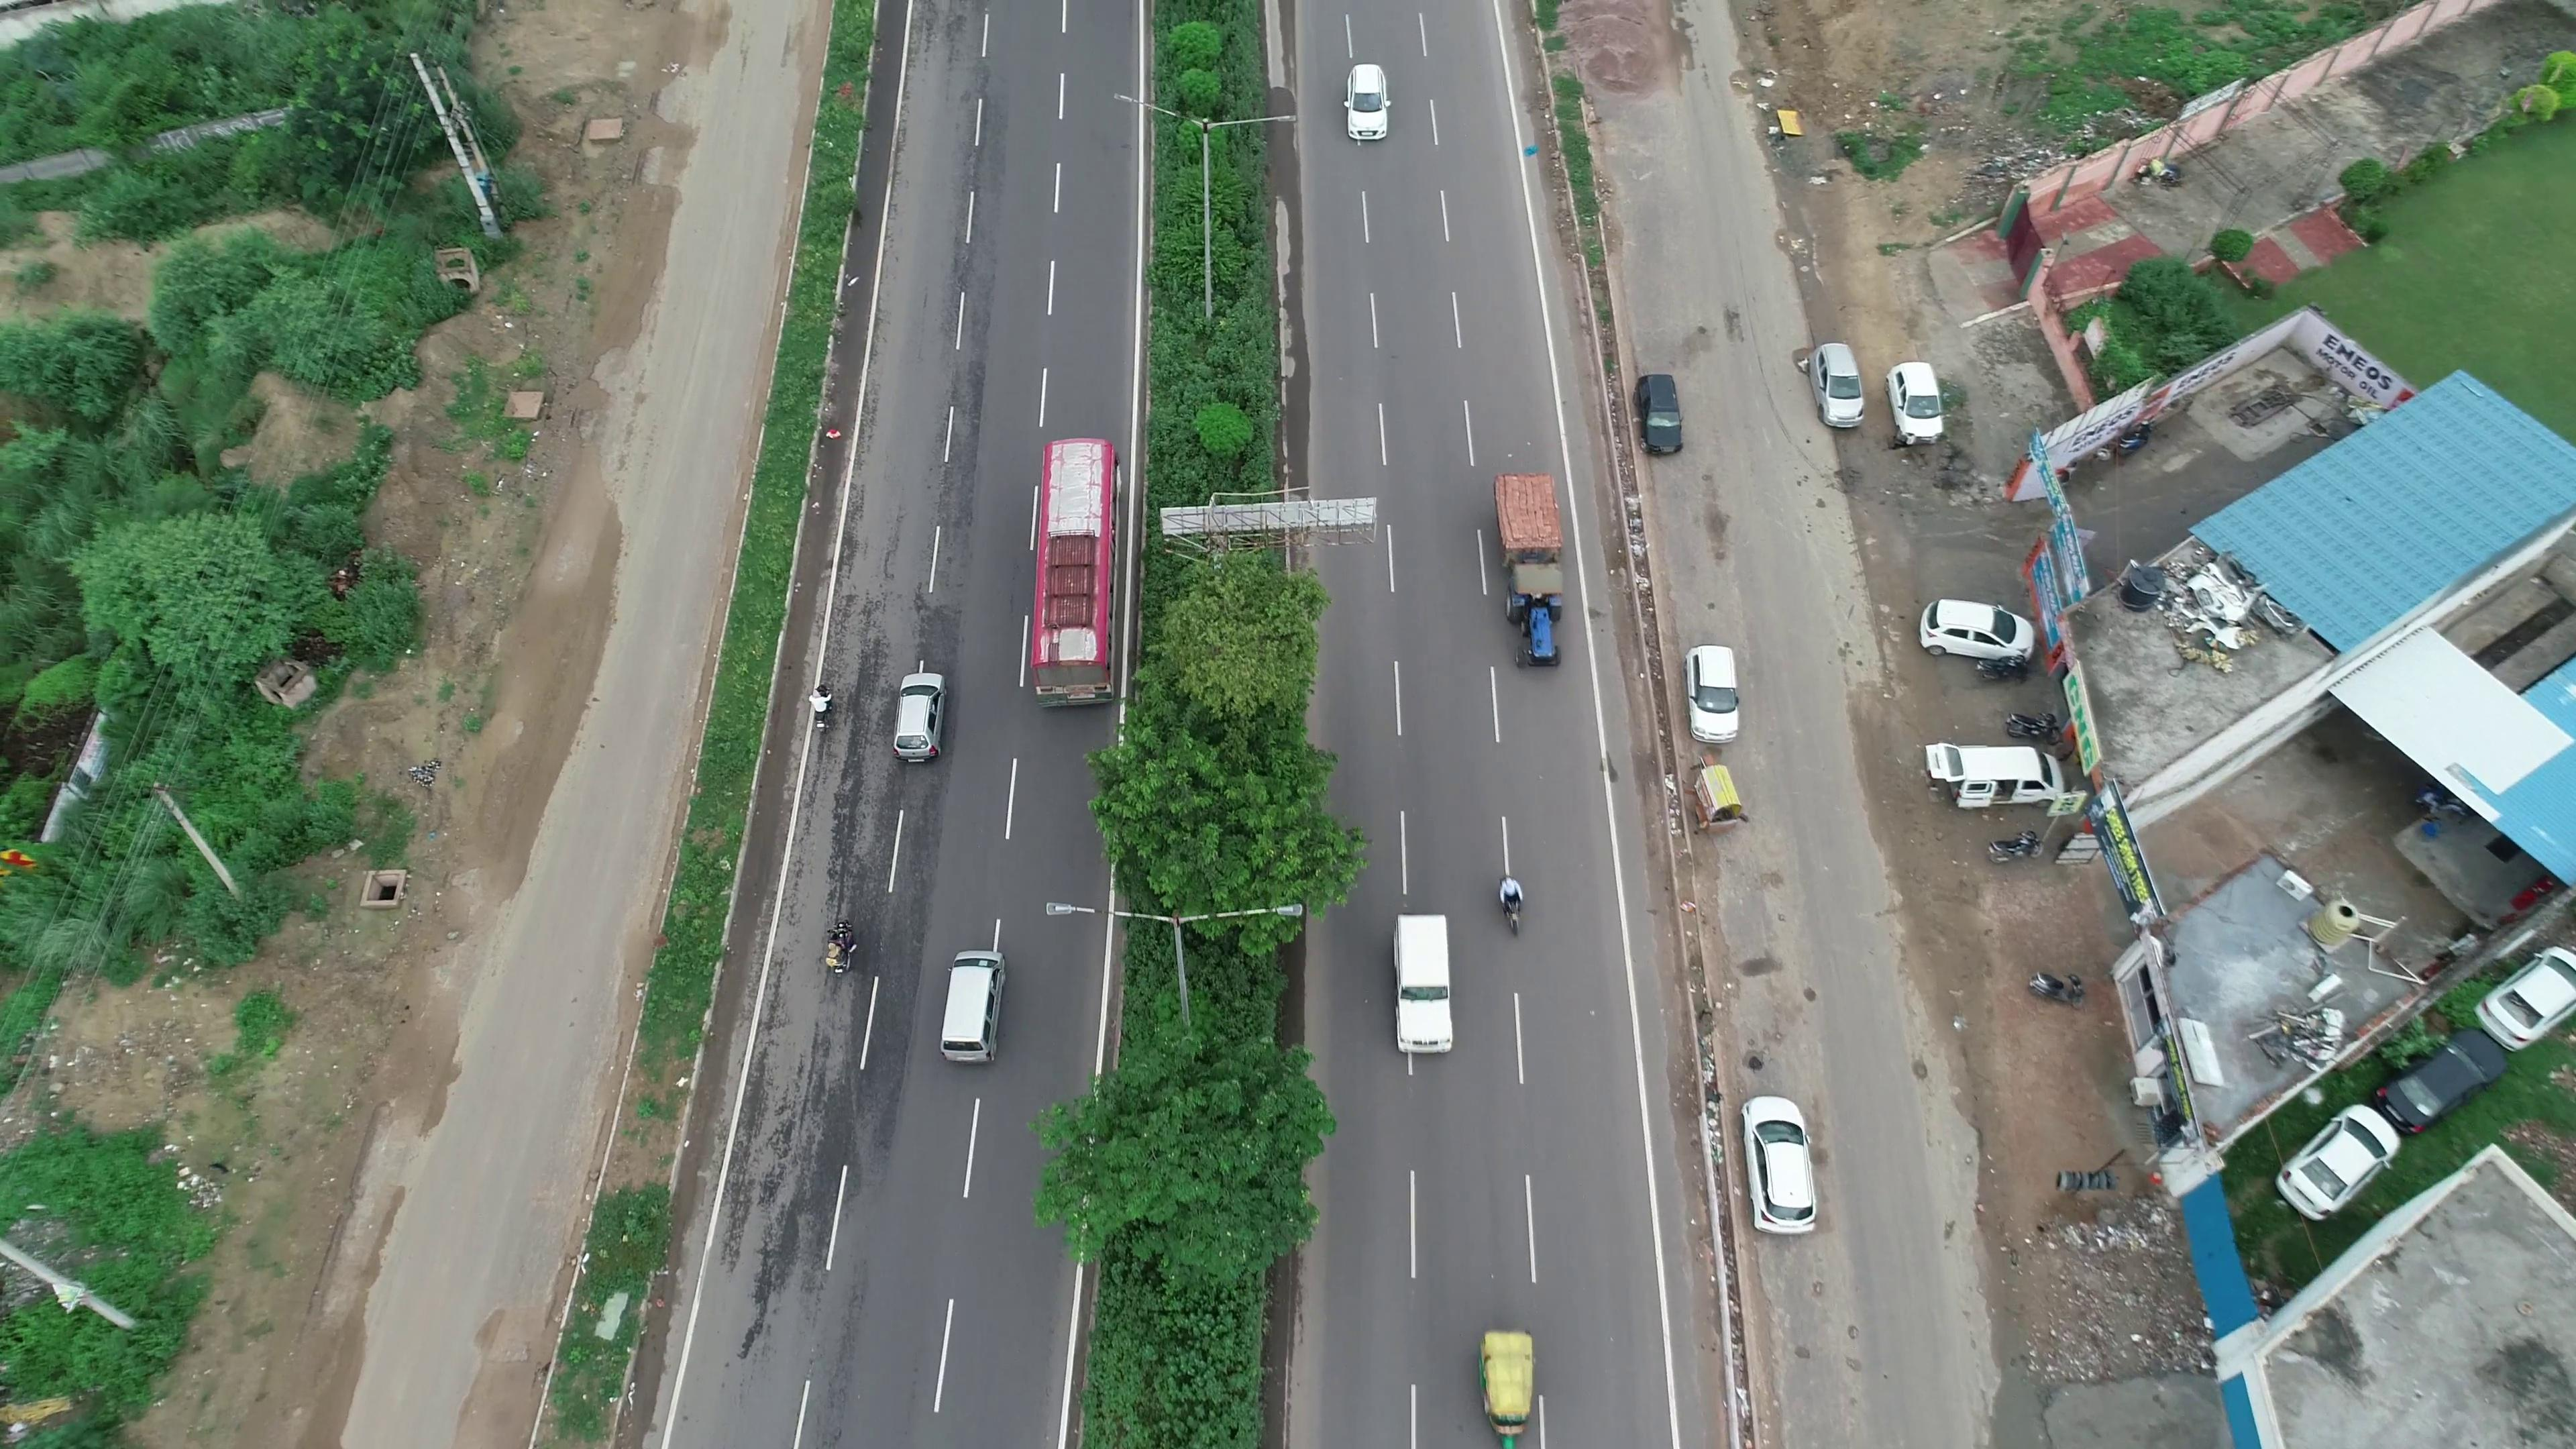Ravelling: (918, 173, 1014, 531), (839, 635, 886, 893)
